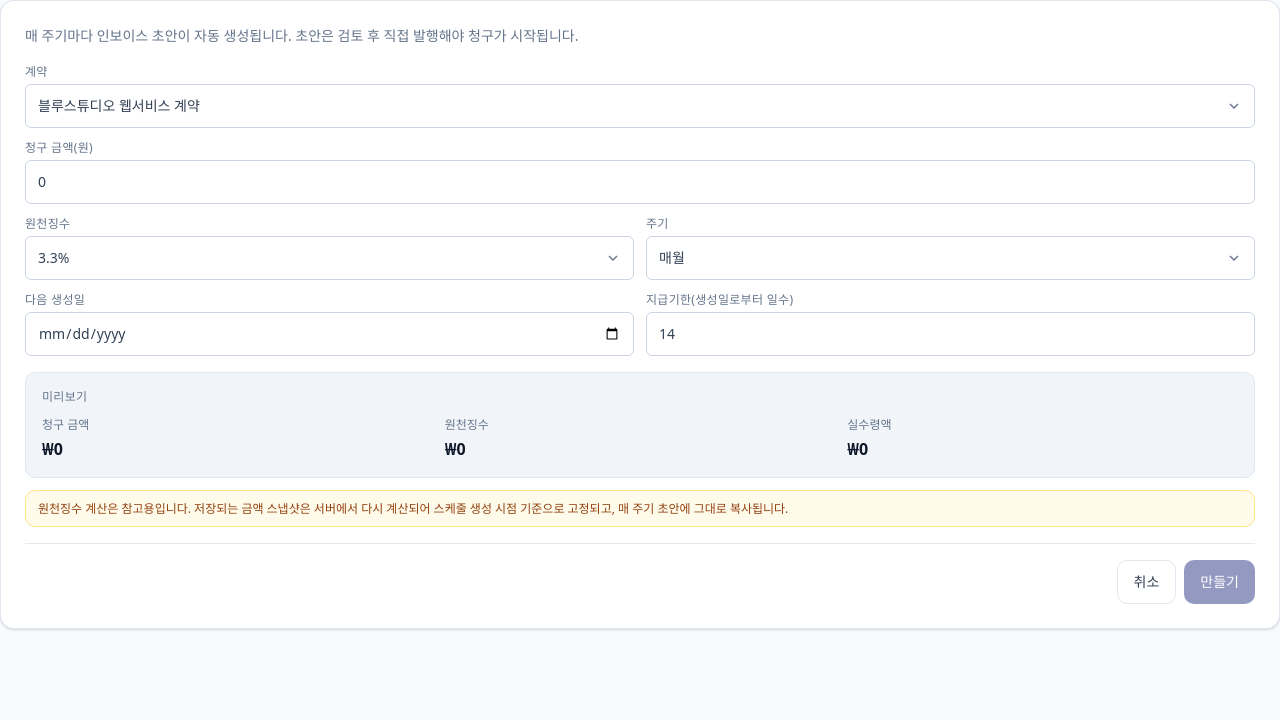
RecurringScheduleForm › previews the withholding breakdown for the entered amount
Replace the text in the number field labelled "청구 금액(원)" with "1000000" at coordinates (640, 182), box [25,160,1255,204]
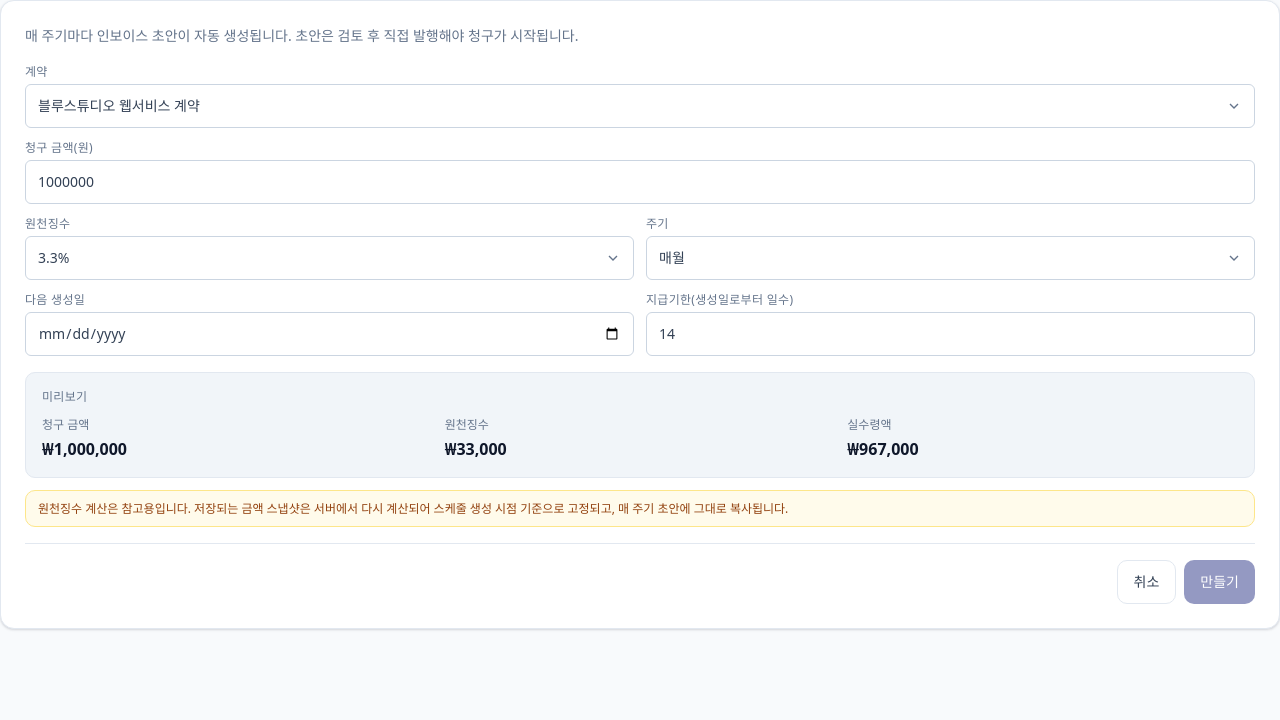
Check: the element "미리보기" shows "₩1,000,000", box [42,438,127,460]
Check: the element "미리보기" shows "₩33,000", box [445,438,507,460]
Check: the element "미리보기" shows "₩967,000", box [847,438,919,460]
